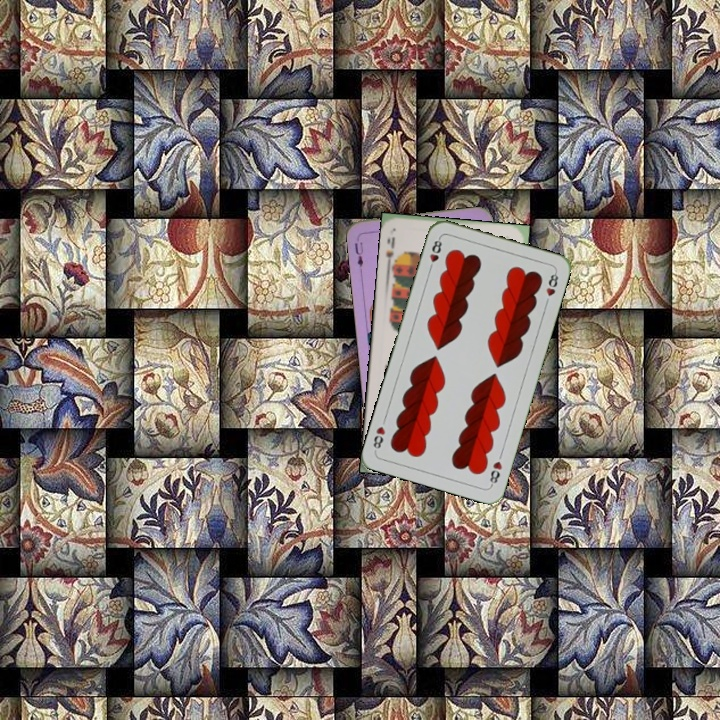EU: (350, 233, 366, 274)
H8: (425, 234, 445, 273), (486, 457, 505, 489)
S9: (381, 232, 401, 269)
